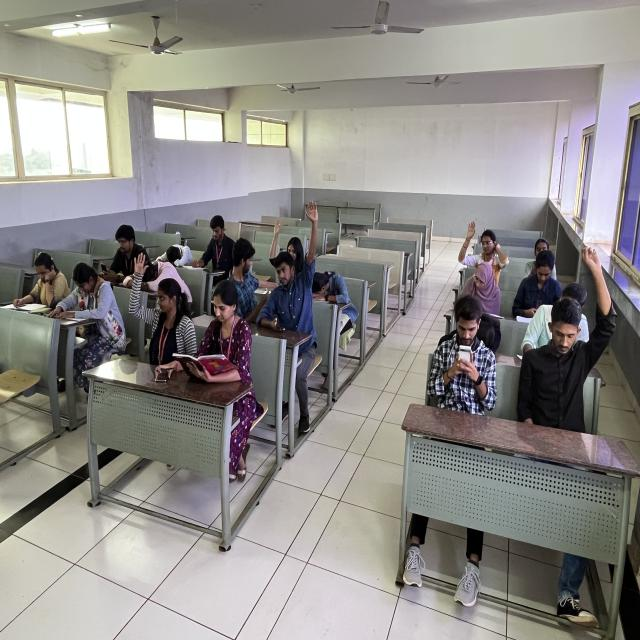Hand Rising: (507, 246, 630, 432), (253, 205, 341, 347), (120, 257, 210, 365), (255, 211, 330, 286)
Reading: (175, 279, 266, 405), (62, 259, 132, 352), (5, 240, 76, 331), (447, 256, 521, 326)
Sleeping: (308, 258, 378, 342), (439, 299, 525, 351), (150, 221, 208, 279)
Using Phone: (431, 310, 509, 418), (512, 258, 607, 322), (87, 206, 153, 291), (451, 214, 520, 288)
Writing: (519, 288, 614, 371), (183, 209, 254, 284)
